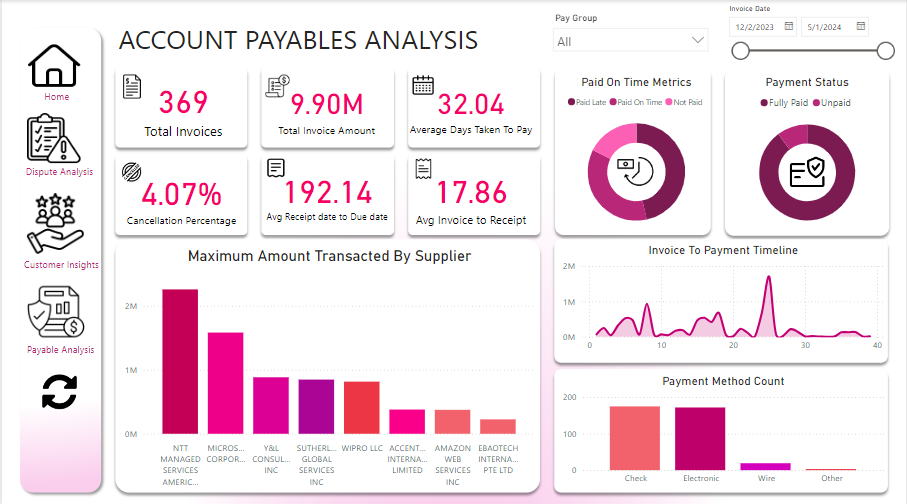

The dashboard page shown, as its layout file describes it:
{"tool":"powerbi","page":{"name":"Payable Analysis","canvas":[1280,720],"ordinal":3},"visuals":[{"type":"card","fields":{"Values":["CountNonNull(AP.BU)"]},"box":[162.9,97.4,188.1,107.5],"z":0},{"type":"card","fields":{"Values":["Sum(AP.Invoice Amount)"]},"box":[372.9,100.8,174.7,104.1],"z":1000},{"type":"card","fields":{"Values":["Avg(AP.Time Taken To Pay)"]},"box":[569.4,97.4,189.8,109.2],"z":2000},{"type":"lineChart","title":"Invoice To Payment Timeline","fields":{"Category":["AP.Invoice to Receipt"],"Y":["Sum(AP.Invoice Amount)"]},"box":[789.8,344.7,465.9,162.8],"z":3000},{"type":"donutChart","title":"Paid On Time Metrics","fields":{"Category":["AP.Paid on Time metrics"],"Y":["CountNonNull(AP.Paid on Time metrics)"]},"box":[786.1,105.8,225.1,228.5],"z":4000},{"type":"card","fields":{"Values":["Avg(AP.Invoice to Receipt)"]},"box":[569.4,218.4,189.8,119.3],"z":5000},{"type":"card","fields":{"Values":["Avg(AP.Receipt date to Due date)"]},"box":[367.9,215,184.8,119.3],"z":6000},{"type":"donutChart","title":"Payment Status","fields":{"Category":["AP.Paid Status"],"Y":["CountNonNull(AP.Paid Status)"]},"box":[1026.4,105.8,230.1,228.5],"z":7000},{"type":"card","fields":{"Values":["AP.Paid Late Percentage"]},"box":[162.9,223.4,183.1,110.9],"z":8000},{"type":"columnChart","title":"Payment Method Count","fields":{"Category":["AP.Payment_Method"],"Y":["CountNonNull(AP.Payment_Method)"]},"box":[789.8,530,465.9,166.3],"z":9000},{"type":"columnChart","title":"Maximum Amount Transacted By Supplier","fields":{"Category":["AP.Supplier or Party"],"Y":["Sum(AP.Invoice Amount)"]},"box":[168,349.4,591.3,347.7],"z":10000},{"type":"slicer","fields":{"Values":["AP.Invoice Date"]},"box":[1018,0,255.3,97.4],"z":11000},{"type":"slicer","fields":{"Values":["AP.Pay Group"]},"box":[771,13.4,240.2,73.9],"z":22000},{"type":"image","box":[33.6,525.8,94.1,58.8],"z":22001},{"type":"textbox","box":[159.6,23.5,608.1,58.8],"z":22002},{"type":"image","box":[159.6,100.8,47,43.7],"z":22003},{"type":"image","box":[367.9,97.4,43.7,47],"z":22004},{"type":"image","box":[576.2,95.7,40.3,48.7],"z":22005},{"type":"image","box":[159.6,225.1,47,37],"z":22006},{"type":"image","box":[364.5,218.4,47,40.3],"z":22007},{"type":"image","box":[576.2,220.1,40.3,38.6],"z":22008},{"type":"image","box":[861.7,206.6,72.2,72.2],"z":22009},{"type":"image","box":[1110.3,213.3,63.8,58.8],"z":22010},{"type":"textbox","box":[11.6,230,140.3,50.6],"z":22011},{"type":"textbox","box":[13.4,482.1,141.1,40.3],"z":22012},{"type":"textbox","box":[25.2,361.2,117.6,52.1],"z":22013},{"type":"actionButton","box":[37,60.5,73.9,63.8],"z":22014},{"type":"actionButton","box":[35.3,159.6,75.6,70.6],"z":22015},{"type":"actionButton","box":[31.9,273.8,85.7,85.7],"z":22016},{"type":"actionButton","box":[35.3,401.5,82.3,80.6],"z":22017},{"type":"textbox","box":[6.7,122.6,141.1,40.3],"z":22018}]}

Visuals, with their boxes in screenshot pixels (x1, y1, x2, y2), scaled from the page's 1280x720 canvas onto the 907x504 screenshot:
card - CountNonNull(AP.BU): l=115, t=68, r=249, b=143
card - Sum(AP.Invoice Amount): l=264, t=71, r=388, b=143
card - Avg(AP.Time Taken To Pay): l=403, t=68, r=538, b=145
"Invoice To Payment Timeline" lineChart: l=560, t=241, r=890, b=355
"Paid On Time Metrics" donutChart: l=557, t=74, r=717, b=234
card - Avg(AP.Invoice to Receipt): l=403, t=153, r=538, b=236
card - Avg(AP.Receipt date to Due date): l=261, t=150, r=392, b=234
"Payment Status" donutChart: l=727, t=74, r=890, b=234
card - AP.Paid Late Percentage: l=115, t=156, r=245, b=234
"Payment Method Count" columnChart: l=560, t=371, r=890, b=487
"Maximum Amount Transacted By Supplier" columnChart: l=119, t=245, r=538, b=488
slicer - AP.Invoice Date: l=721, t=0, r=902, b=68
slicer - AP.Pay Group: l=546, t=9, r=717, b=61
image: l=24, t=368, r=90, b=409
textbox: l=113, t=16, r=544, b=58
image: l=113, t=71, r=146, b=101
image: l=261, t=68, r=292, b=101
image: l=408, t=67, r=437, b=101
image: l=113, t=158, r=146, b=183
image: l=258, t=153, r=292, b=181
image: l=408, t=154, r=437, b=181
image: l=611, t=145, r=662, b=195
image: l=787, t=149, r=832, b=190
textbox: l=8, t=161, r=108, b=196
textbox: l=9, t=337, r=109, b=366
textbox: l=18, t=253, r=101, b=289
actionButton: l=26, t=42, r=79, b=87
actionButton: l=25, t=112, r=79, b=161
actionButton: l=23, t=192, r=83, b=252
actionButton: l=25, t=281, r=83, b=337
textbox: l=5, t=86, r=105, b=114
